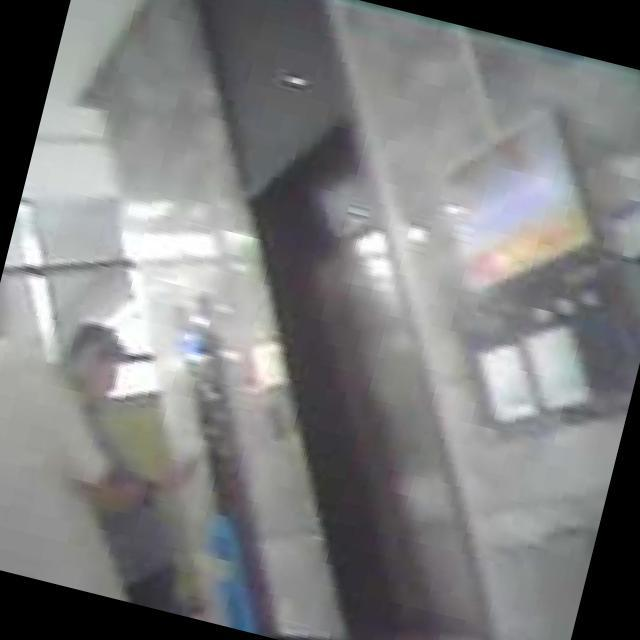person: (8, 314, 250, 616), (0, 263, 204, 602)
